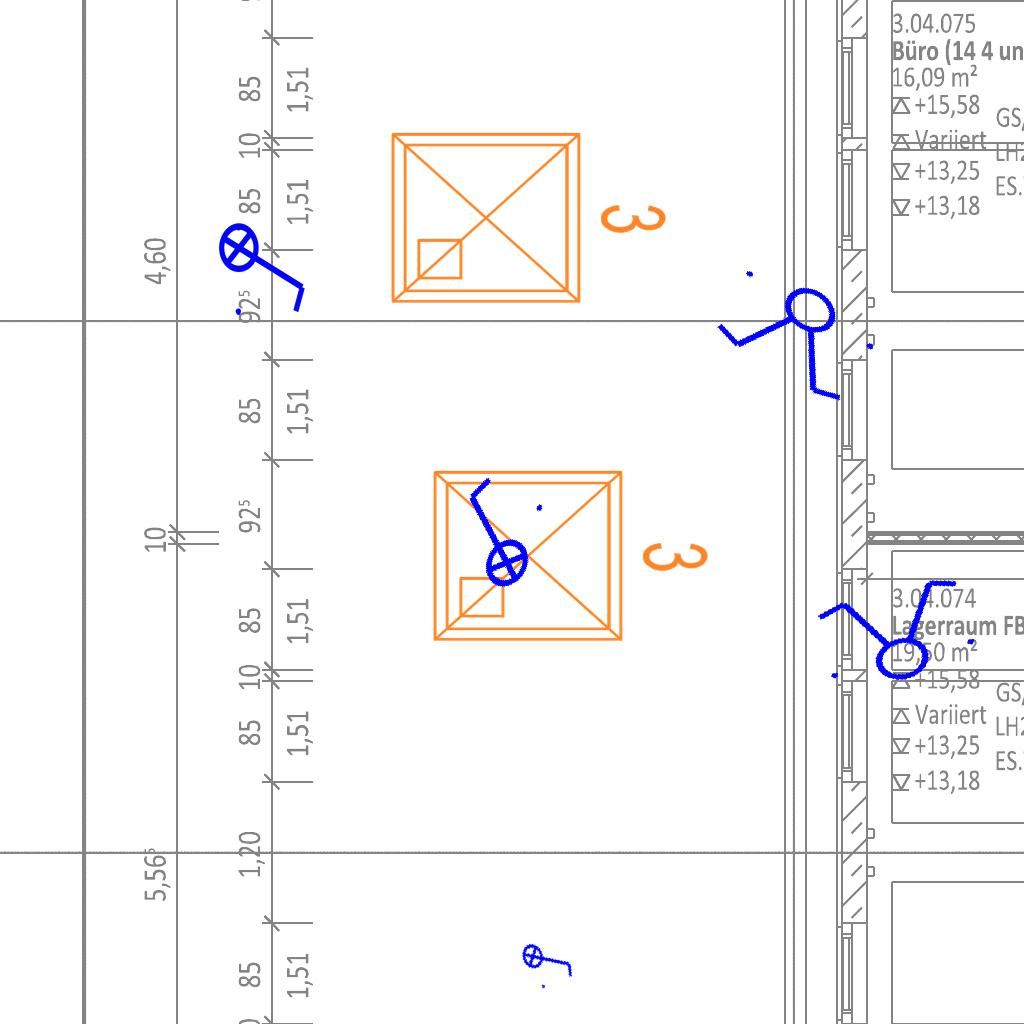Ausschalter_beleuchtet: (423, 462, 563, 608), (217, 209, 313, 321), (515, 925, 581, 995)
Einbaudownlights_LED_Konferenzraeume: (419, 448, 719, 656), (377, 110, 677, 318)
Serienschalter: (701, 248, 895, 418), (801, 567, 989, 701)
